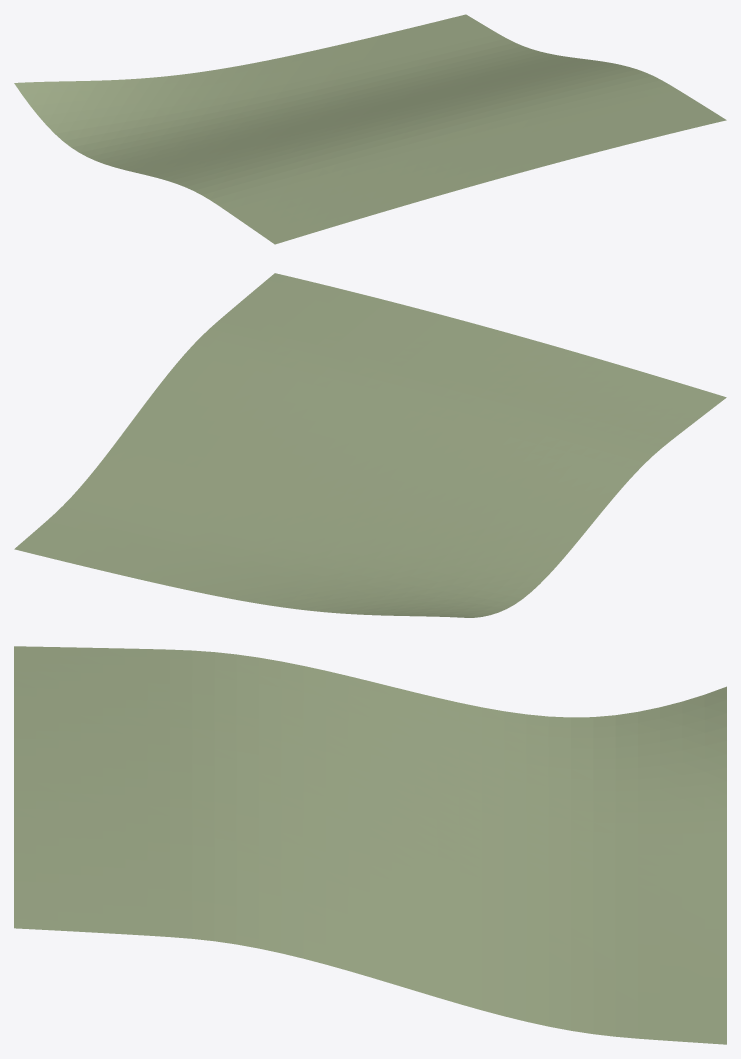
Rendered from canyon-5-4.glb.
The picture shows the model from 3 angles, top to bottom: view 1: azimuth 30°, elevation 25°; view 2: azimuth 150°, elevation 25°; view 3: azimuth 270°, elevation 25°; orthographic projection. The views are drawn at different scales.
Parts seen in each view (by area): view 1: canyon-5-4; view 2: canyon-5-4; view 3: canyon-5-4.
Boxes of the visible parts, x1,y1,x2,y2 form: canyon-5-4: (14, 14, 726, 244); canyon-5-4: (14, 273, 726, 617); canyon-5-4: (14, 646, 726, 1044).
Bounding box in the file's own units: 128 × 23.13 × 128.
